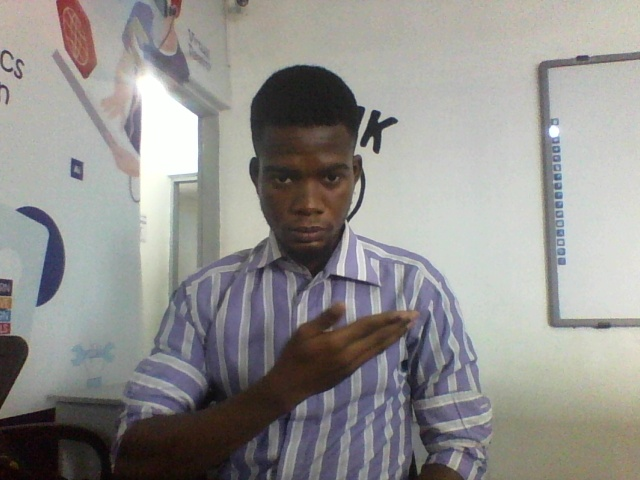you_are_welcome: (169, 309, 441, 445)
